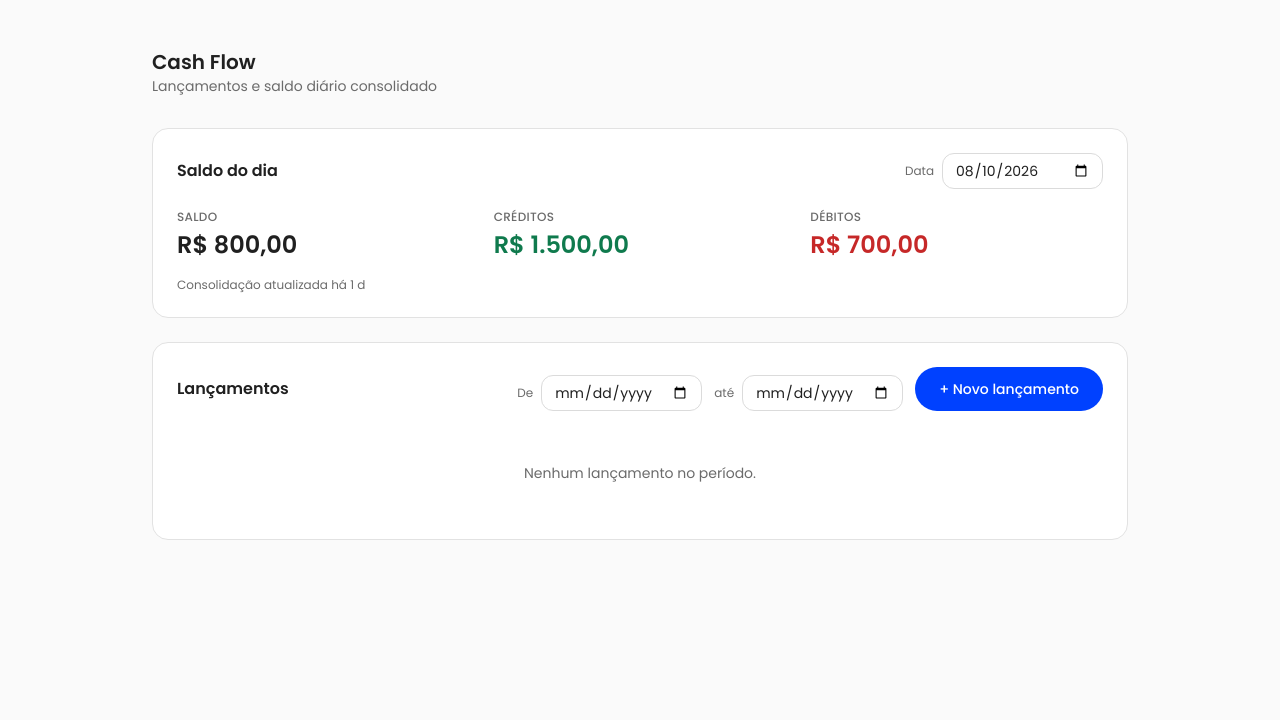
Test: DashboardPage › closes the modal once the registration succeeds
Expected: the text "Nenhum lançamento no período." is shown, top-left (524, 463), bottom-right (756, 483)
Click the button "+ Novo lançamento". click: (1009, 389)
box: top-left (915, 367), bottom-right (1103, 411)
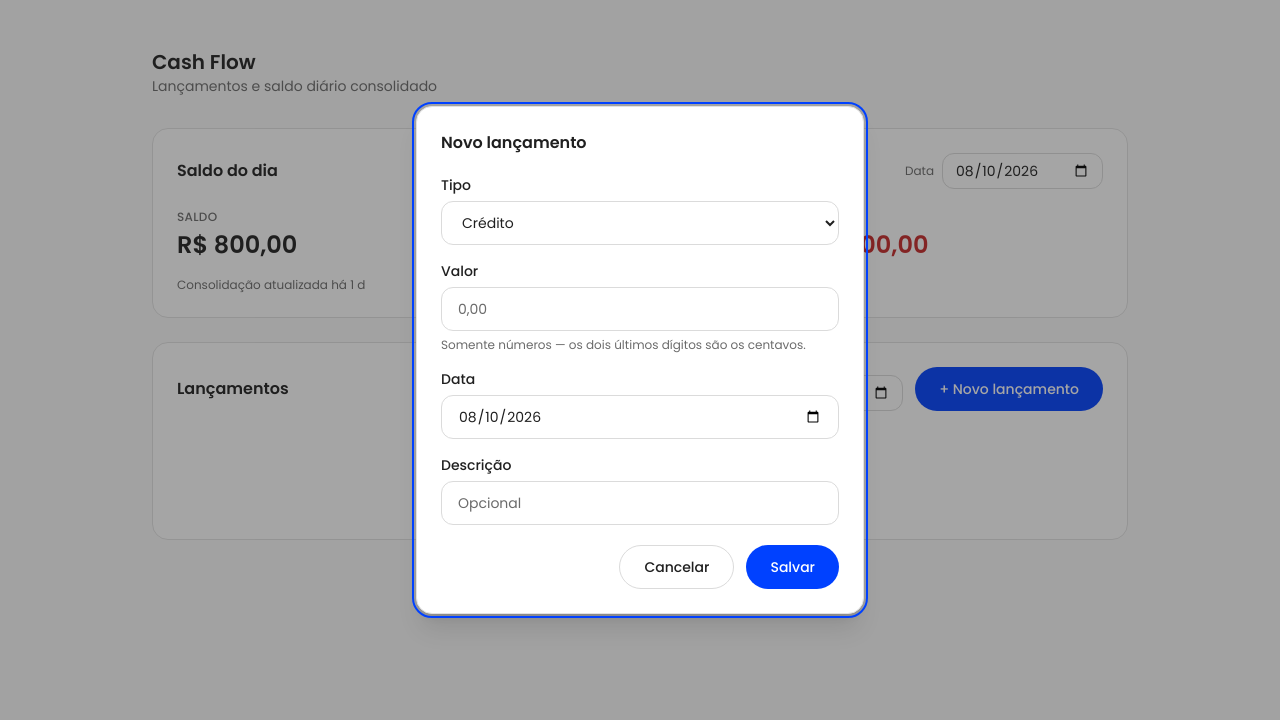
Type "1500" into the field labelled "Valor". click: (640, 309)
box: top-left (441, 287), bottom-right (839, 331)
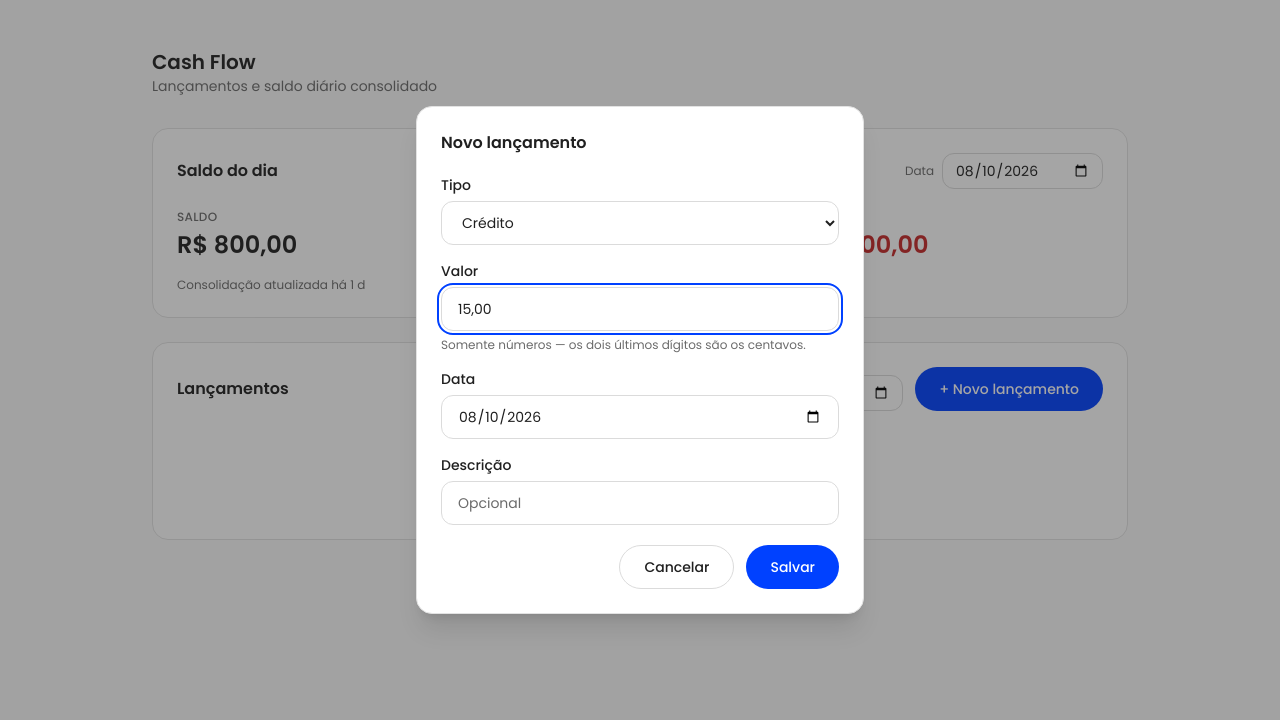
Click the button "Salvar". click: (793, 567)
box: top-left (746, 545), bottom-right (839, 589)
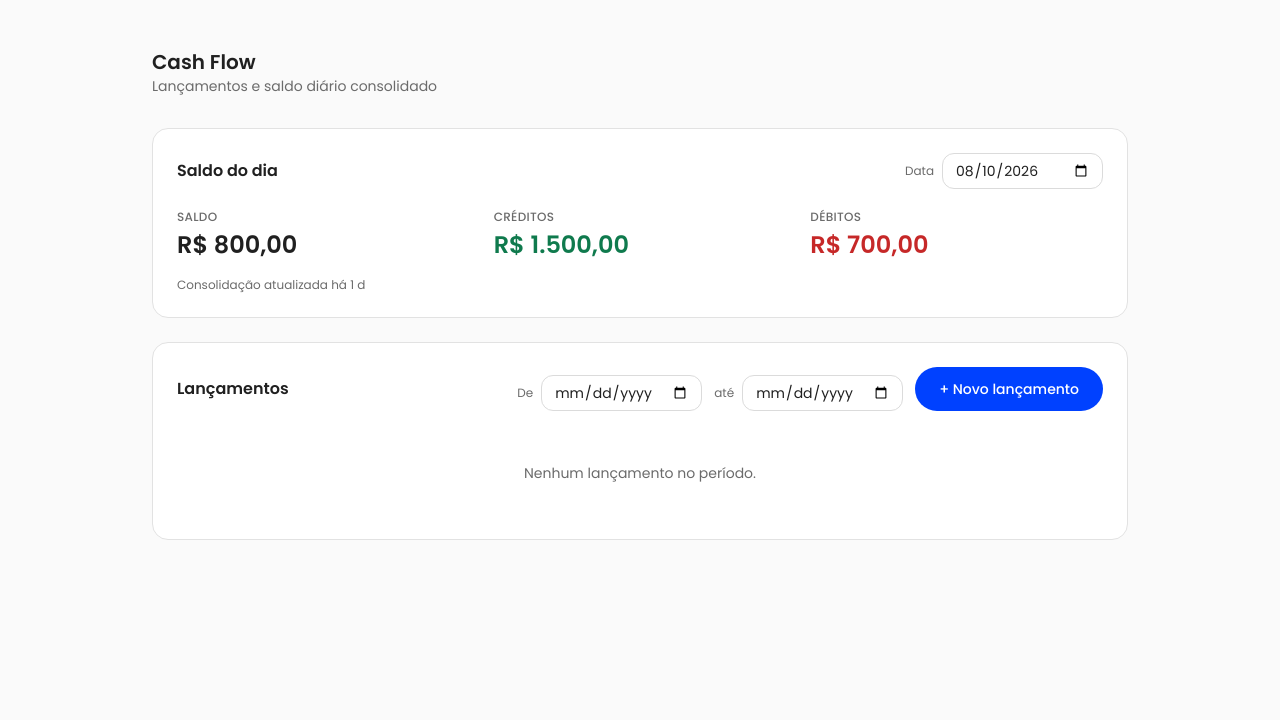
Expected: the dialog is gone
